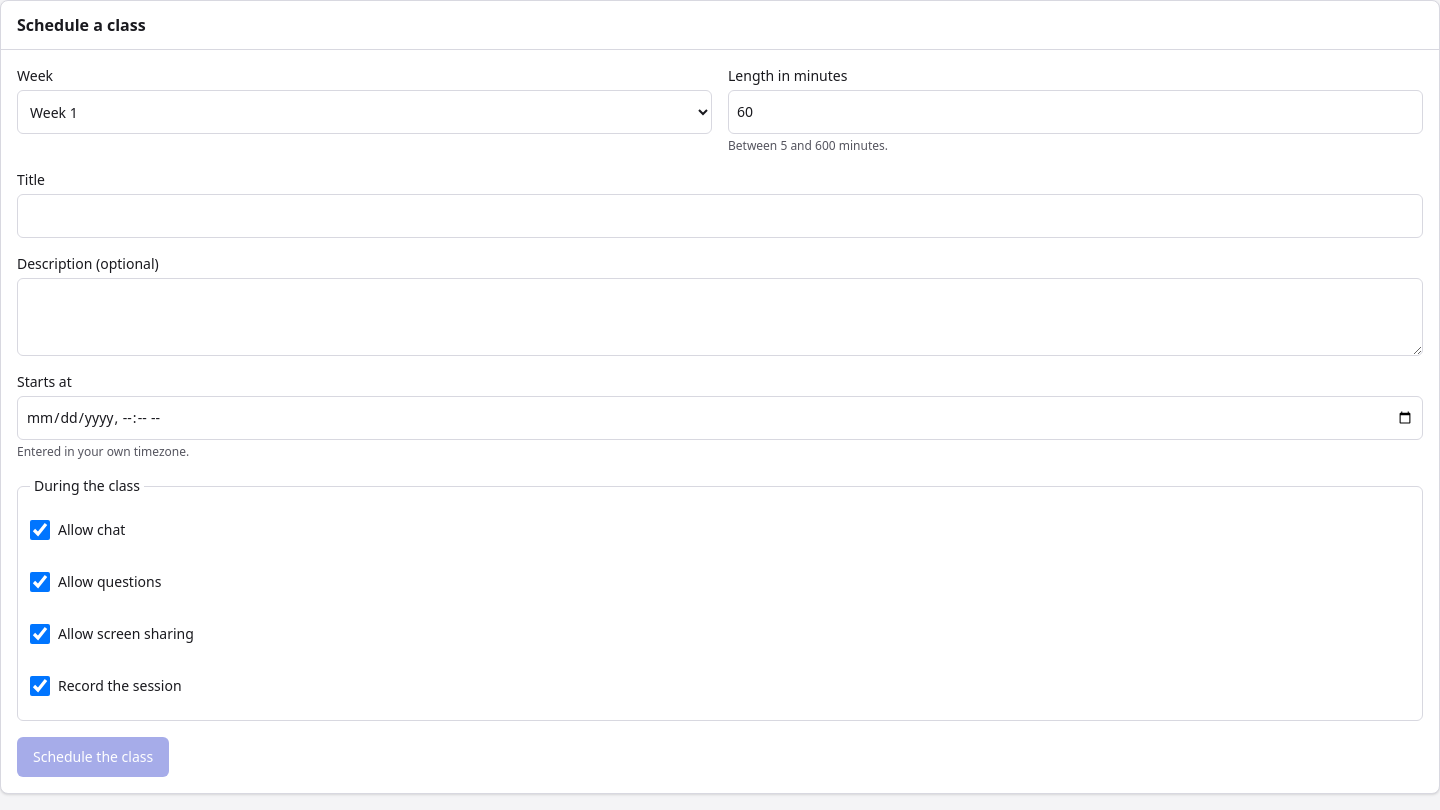
Test: ClassScheduler › shows the resulting UTC instant so the instructor can check the conversion
Type "2026-08-01T14:00" into the field labelled "Starts at".
click(720, 418); type("2026-08-01T14:00")  # box [17,396,1423,440]
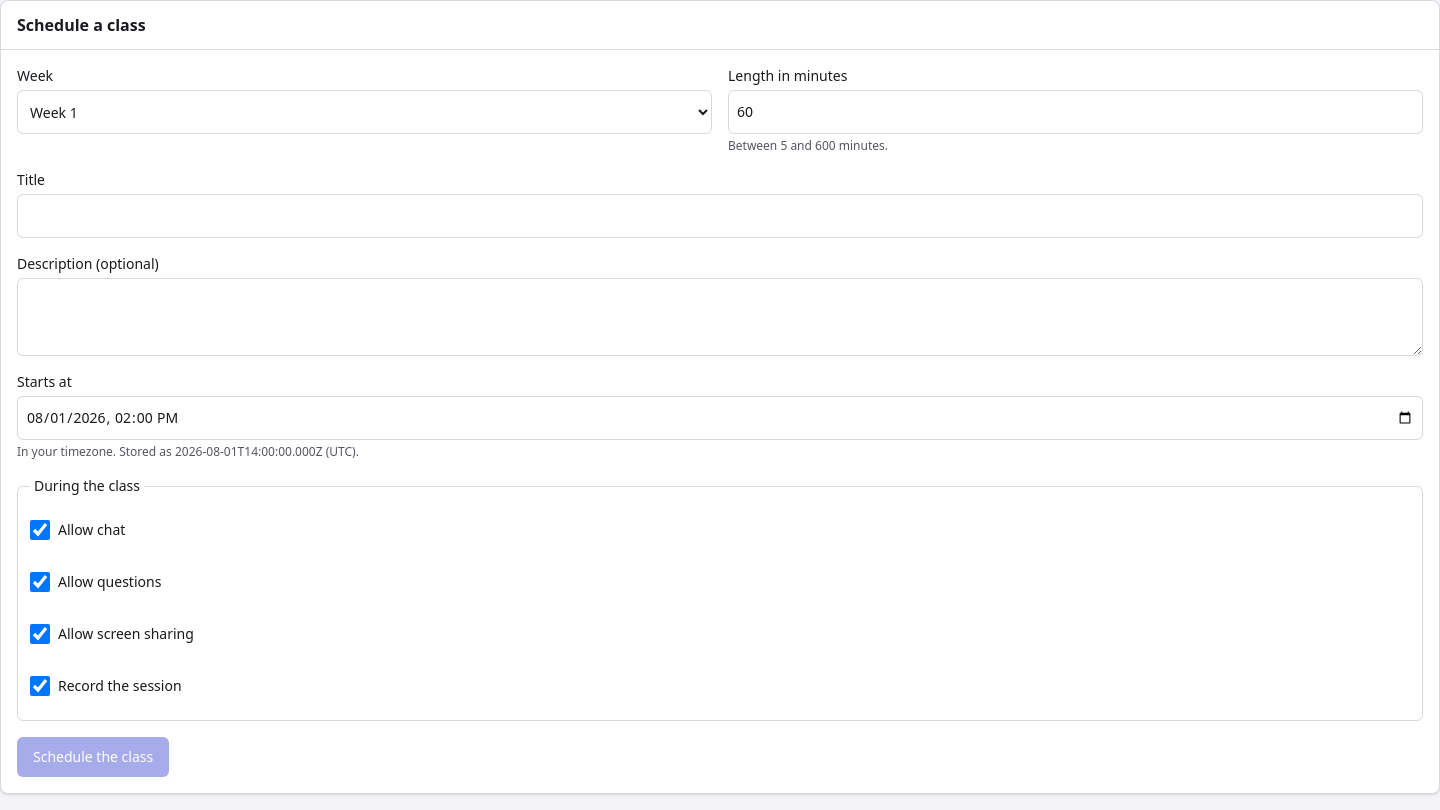
Result: the text with test id "class-when-hint" shows "UTC" at [17,443,359,460]
